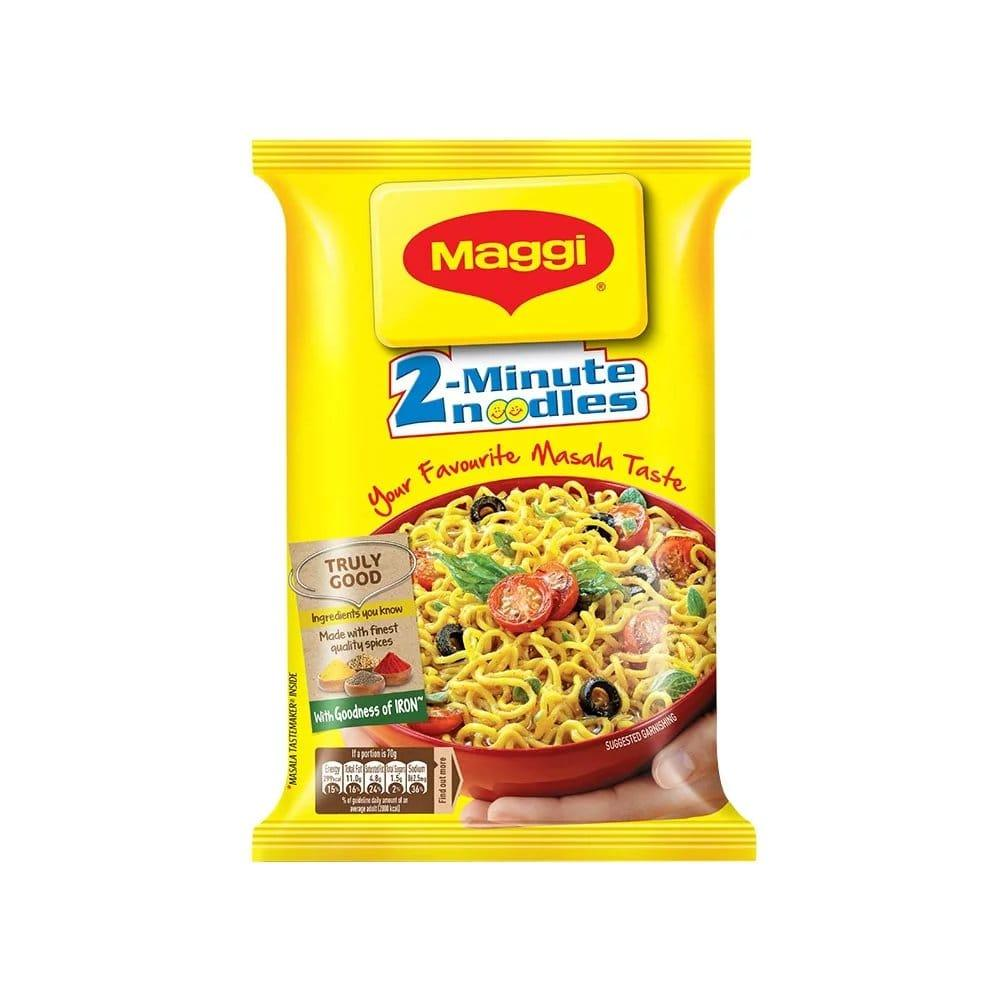Maggi: (245, 136, 755, 867)
